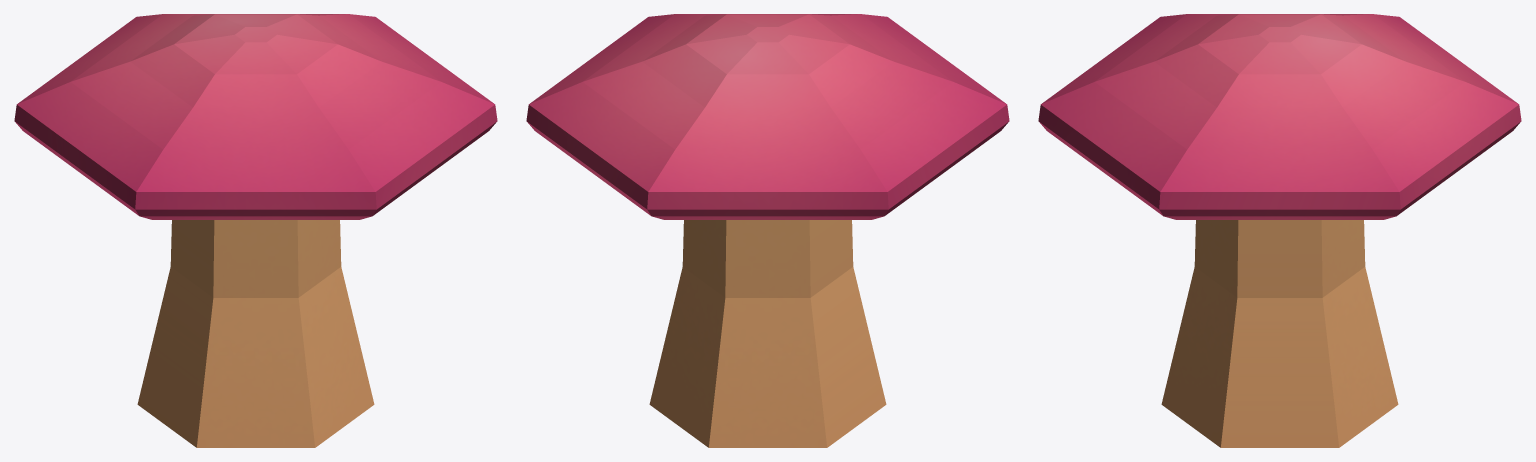
The model's file is mushroom2.glb.
3 renders of one model, left to right at view 1: azimuth 30°, elevation 25°; view 2: azimuth 150°, elevation 25°; view 3: azimuth 270°, elevation 25°, orthographic.
Parts seen in each view (by area): view 1: Cylinder.011; view 2: Cylinder.011; view 3: Cylinder.011.
Boxes of the visible parts, left/top/right/bottom form: Cylinder.011: left=14, top=14, right=497, bottom=447; Cylinder.011: left=526, top=14, right=1009, bottom=447; Cylinder.011: left=1038, top=14, right=1521, bottom=447.
Size of the model in its own units: 0.1961 by 0.1912 by 0.2264.
1 material, 1 textured.
